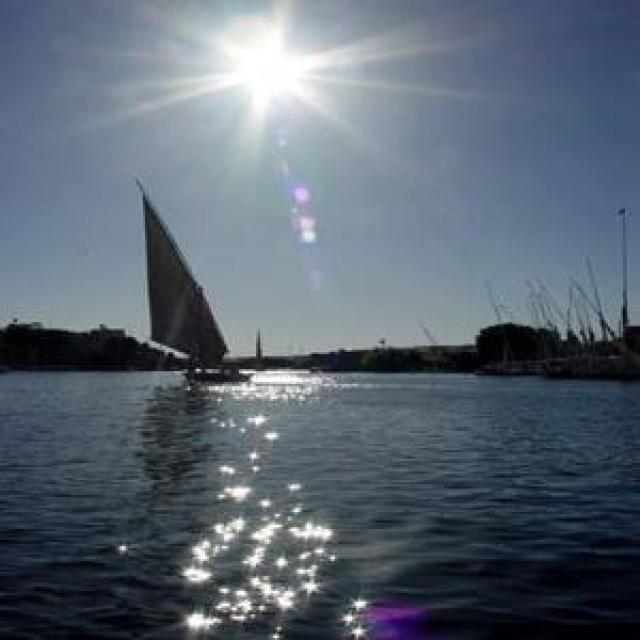sailboat: (130, 173, 252, 386)
